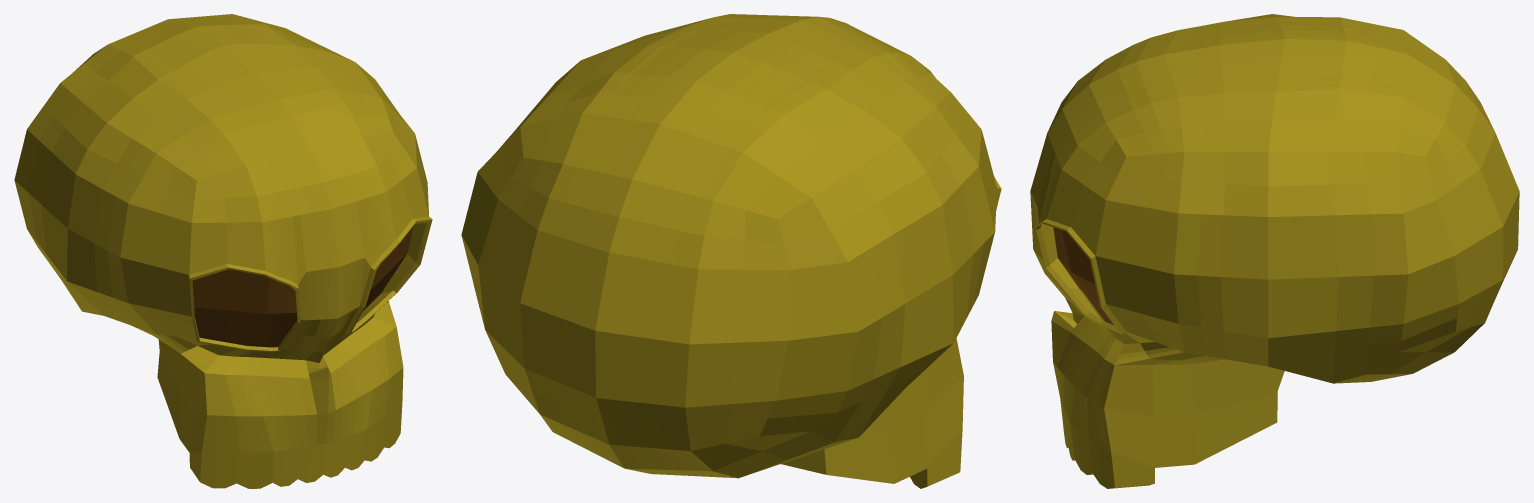
File: dinero_enemigo.fbx
3 renders of one model, left to right at view 1: azimuth 30°, elevation 25°; view 2: azimuth 150°, elevation 25°; view 3: azimuth 270°, elevation 25°, orthographic. The views are drawn at different scales.
Visible parts, largest first — view 1: dinero_enemigo; view 2: dinero_enemigo; view 3: dinero_enemigo.
Boxes of the visible parts, x1=… form: dinero_enemigo: x1=14, y1=14, x2=432, y2=488; dinero_enemigo: x1=461, y1=14, x2=1001, y2=488; dinero_enemigo: x1=1030, y1=14, x2=1519, y2=488.
Size of the model in its own units: 229 by 241 by 267.
